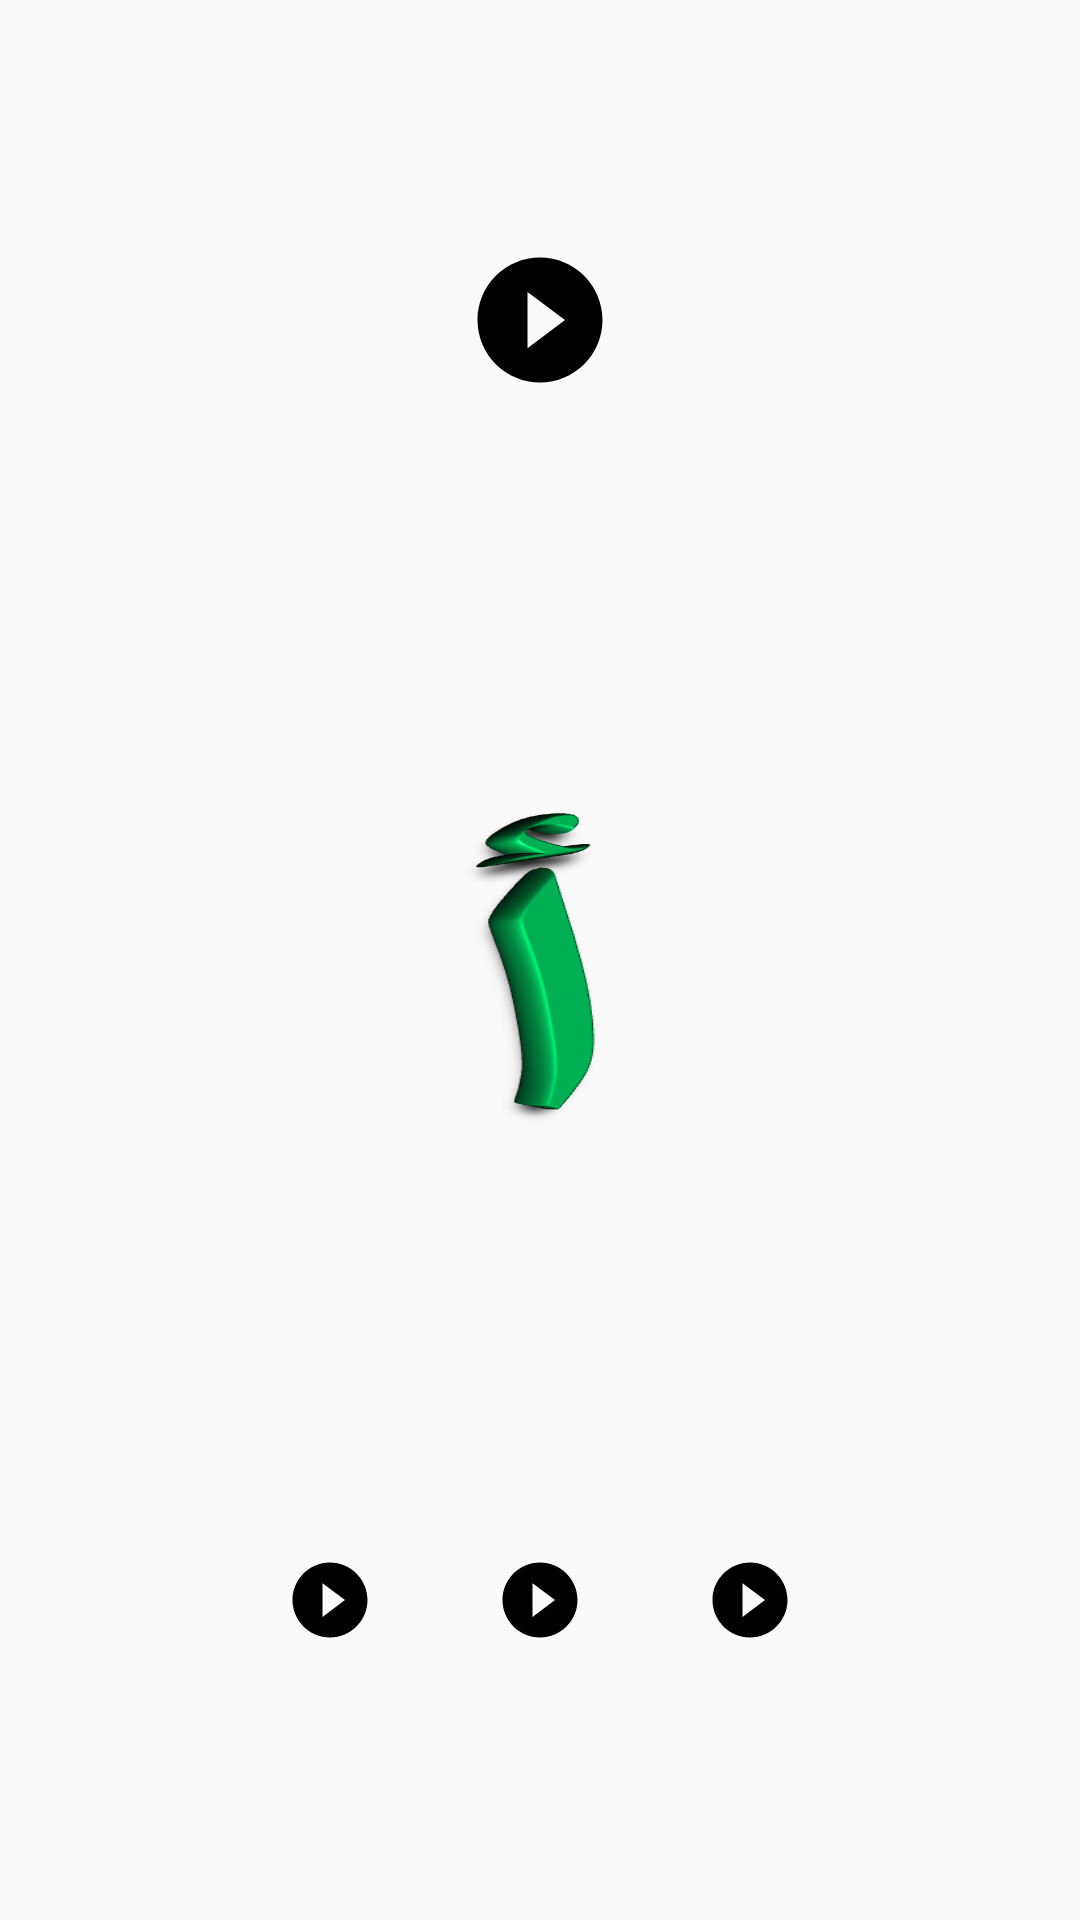

Icons on this 1080w x 1920h Android screen, each with its box as Rect(x1, y1, x2, y2):
play: Rect(477, 257, 603, 383), Rect(292, 1562, 368, 1638), Rect(502, 1562, 578, 1638), Rect(712, 1562, 788, 1638)
